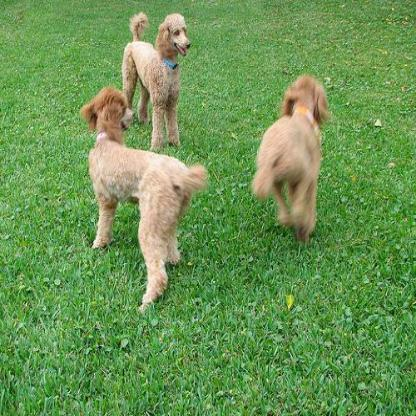standard_poodle: (77, 82, 207, 307), (248, 69, 334, 247), (119, 8, 192, 150)
